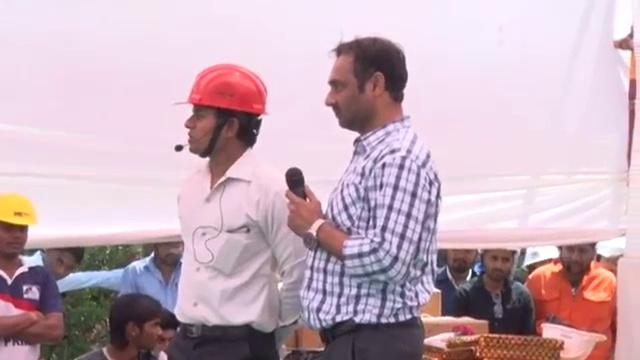helmet: (166, 62, 276, 120), (540, 322, 605, 359), (0, 189, 39, 227), (520, 243, 559, 275)
helmet_off: (323, 37, 413, 133), (106, 291, 165, 360), (36, 246, 83, 285), (154, 307, 184, 357), (483, 248, 519, 286), (560, 240, 597, 273), (151, 236, 184, 271), (445, 244, 476, 276)
helmet_on: (168, 61, 273, 169), (0, 189, 39, 262)
person: (284, 36, 445, 360), (166, 62, 309, 360), (526, 237, 618, 357), (0, 189, 64, 360), (74, 291, 165, 360), (462, 248, 536, 330), (122, 236, 184, 312), (433, 245, 485, 316)
